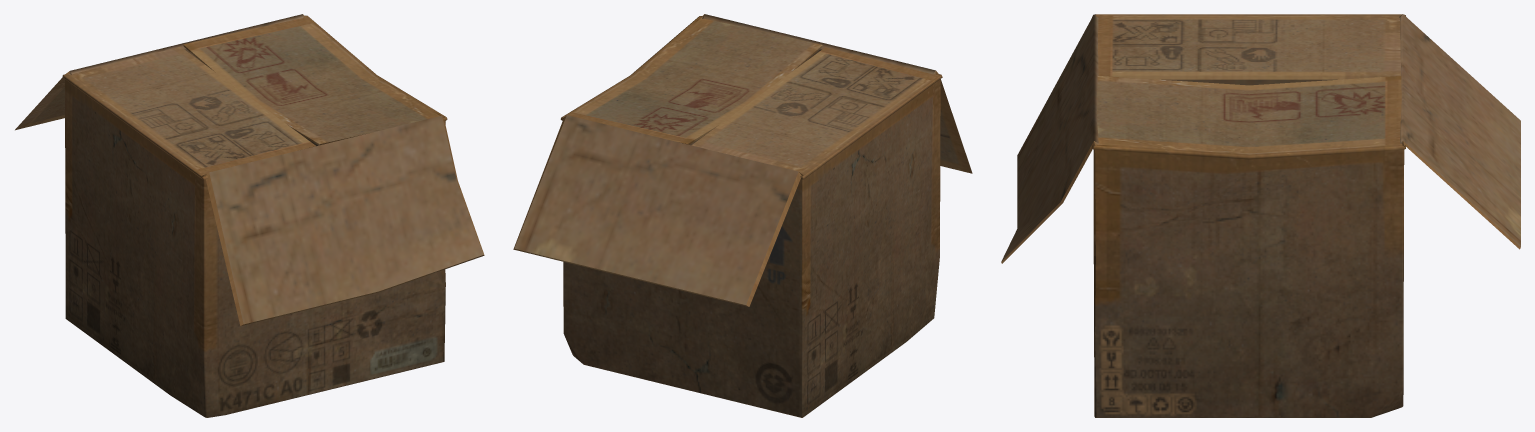
File: CardboardBox_VarB.fbx
3 renders of one model, left to right at view 1: azimuth 30°, elevation 25°; view 2: azimuth 150°, elevation 25°; view 3: azimuth 270°, elevation 25°, orthographic. The views are drawn at different scales.
Parts seen in each view (by area): view 1: CardboardBox_VarB_LOD0; view 2: CardboardBox_VarB_LOD0; view 3: CardboardBox_VarB_LOD0.
Boxes of the visible parts, x1,y1,x2,y2 form: CardboardBox_VarB_LOD0: [15, 14, 484, 417]; CardboardBox_VarB_LOD0: [513, 14, 972, 417]; CardboardBox_VarB_LOD0: [1001, 14, 1520, 417].
Size of what is drawn, in the model's own units: 68.39 by 65.95 by 113.
